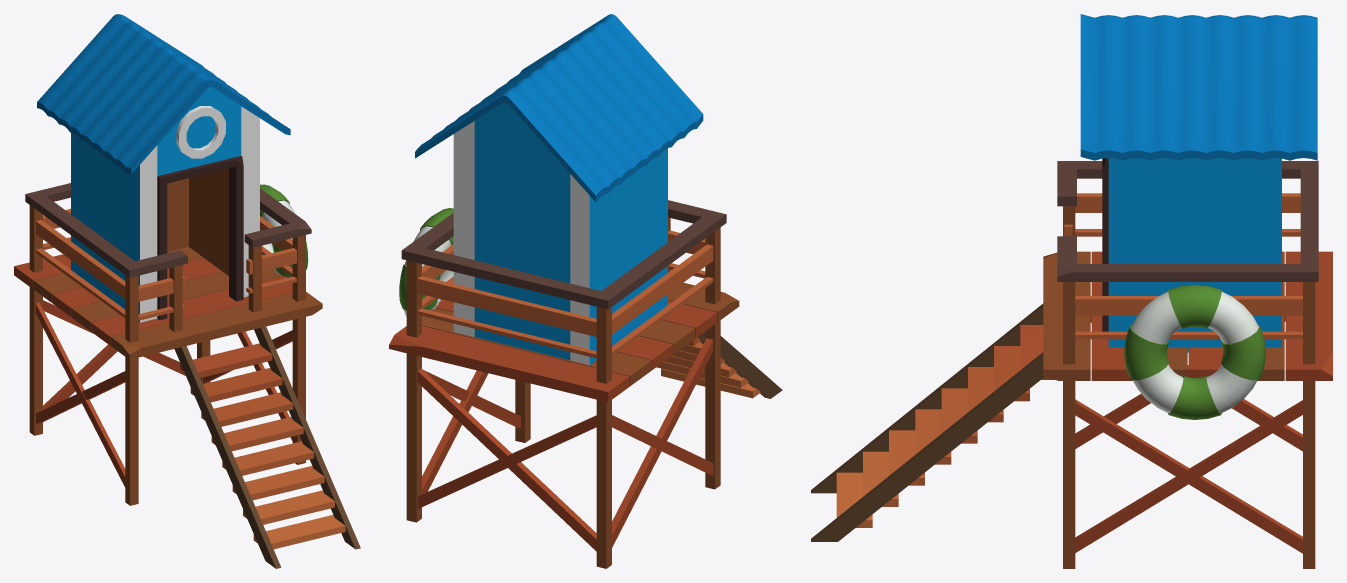
The model's file is cabin-03.glb.
3 views of the same model, side by side, from view 1: azimuth 30°, elevation 25°; view 2: azimuth 150°, elevation 25°; view 3: azimuth 270°, elevation 25° (orthographic). The views are drawn at different scales.
Parts seen in each view (by area): view 1: cabin 03; view 2: cabin 03; view 3: cabin 03.
Boxes of the visible parts, <box> form: cabin 03: <box>14,14,360,568</box>; cabin 03: <box>389,14,782,568</box>; cabin 03: <box>811,14,1332,568</box>.
Size of the model in its own units: 2.28 by 3.95 by 3.73.
Materials: 1 (1 with a texture image).
